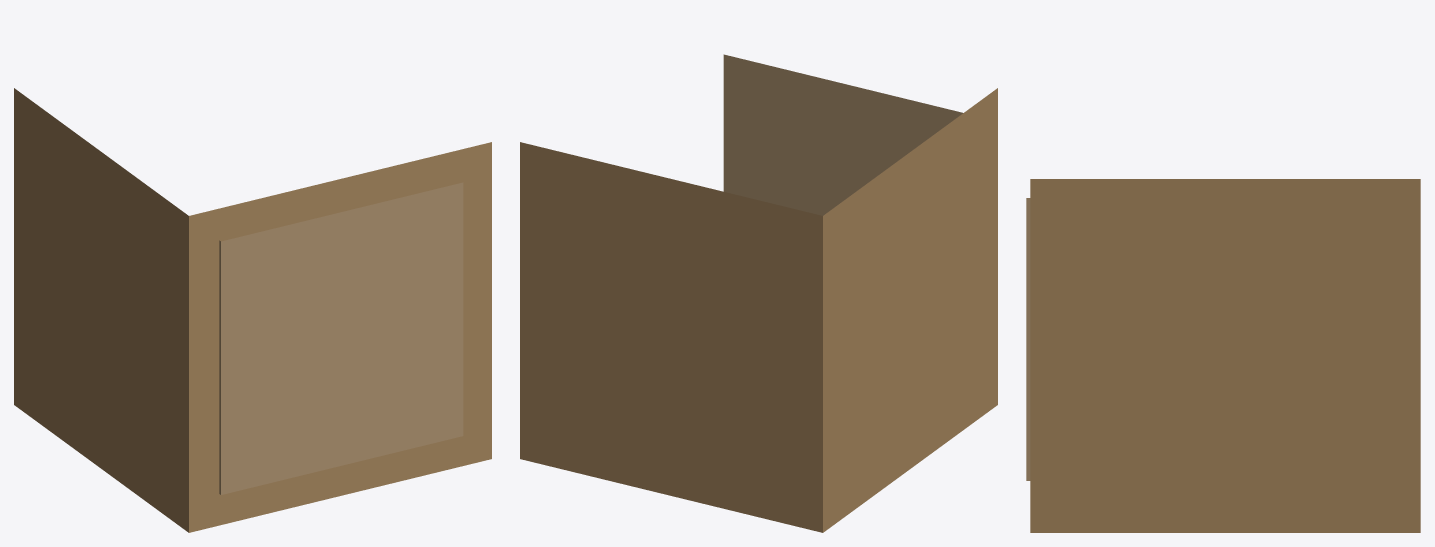
The model's file is Wall-tan.glb.
3 renders of one model, left to right at view 1: azimuth 30°, elevation 25°; view 2: azimuth 150°, elevation 25°; view 3: azimuth 270°, elevation 25°, orthographic. The views are drawn at different scales.
Parts seen in each view (by area): view 1: Wall; view 2: Wall; view 3: Wall.
Boxes of the visible parts, x1=… form: Wall: x1=14, y1=88, x2=491, y2=532; Wall: x1=520, y1=54, x2=997, y2=532; Wall: x1=1026, y1=179, x2=1420, y2=532.
Bounding box in the file's own units: 1 × 1 × 1.01.
